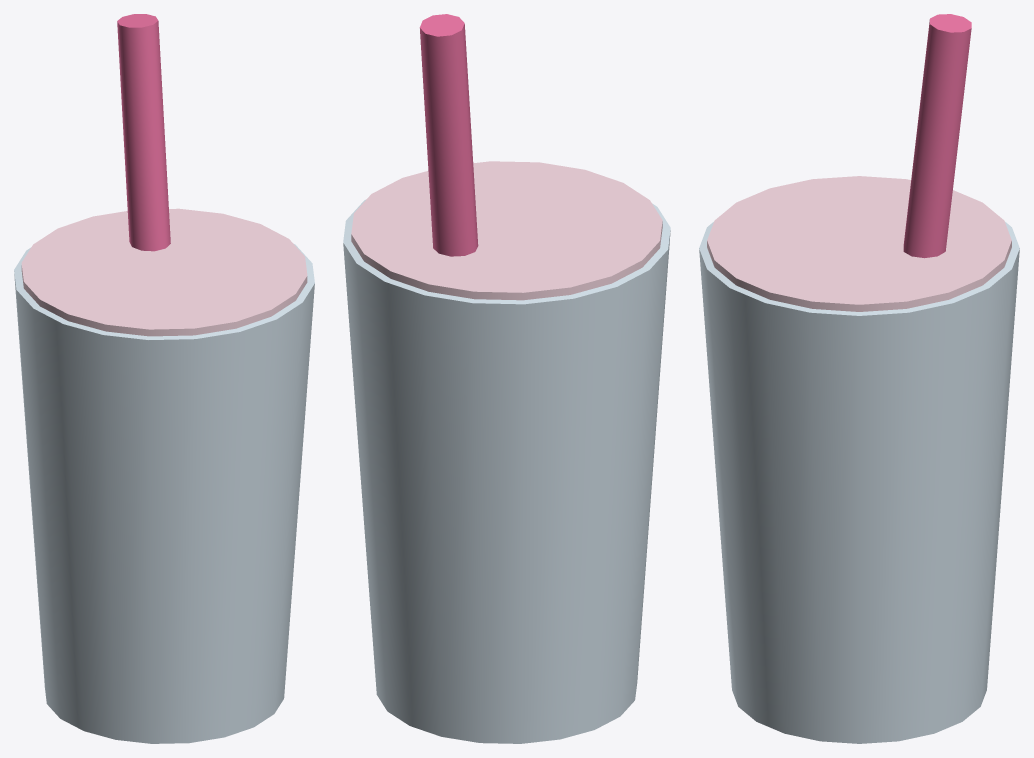
The model's file is Cafe_L6.fbx.
3 views of the same model, side by side, from view 1: azimuth 30°, elevation 25°; view 2: azimuth 150°, elevation 25°; view 3: azimuth 270°, elevation 25° (orthographic). The views are drawn at different scales.
Visible parts, largest first — view 1: C6_Cup, C6_Seal, C6_Straw; view 2: C6_Cup, C6_Seal, C6_Straw; view 3: C6_Cup, C6_Seal, C6_Straw.
Boxes of the visible parts, <box> form: C6_Cup: <box>14,244,314,743</box>; C6_Seal: <box>21,208,307,336</box>; C6_Straw: <box>117,14,170,251</box>; C6_Cup: <box>343,199,670,743</box>; C6_Seal: <box>351,161,662,300</box>; C6_Straw: <box>419,14,478,256</box>; C6_Cup: <box>699,222,1019,743</box>; C6_Seal: <box>707,176,1011,311</box>; C6_Straw: <box>903,14,971,258</box>.
Bounding box in the file's own units: 16 × 37.27 × 16.
